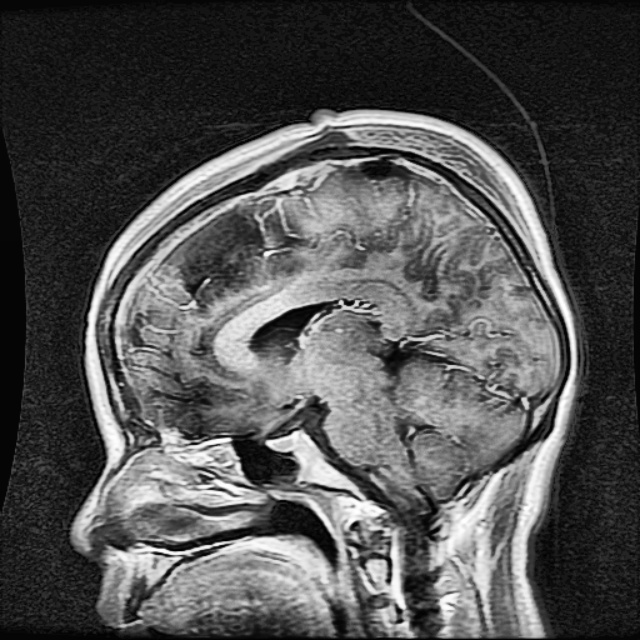Meningioma: (159, 194, 308, 312)
